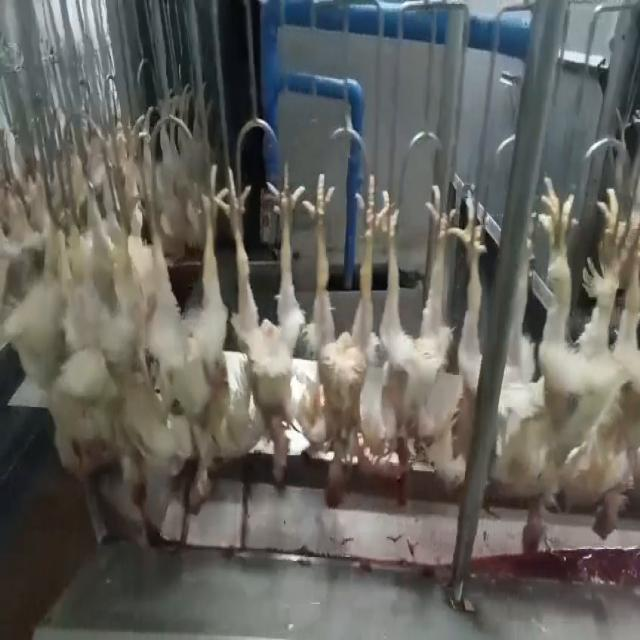chicken: (490, 181, 579, 568), (136, 161, 230, 514), (375, 175, 461, 511), (224, 160, 308, 494), (58, 166, 138, 493), (566, 180, 639, 538), (309, 170, 379, 511), (452, 185, 488, 484)
